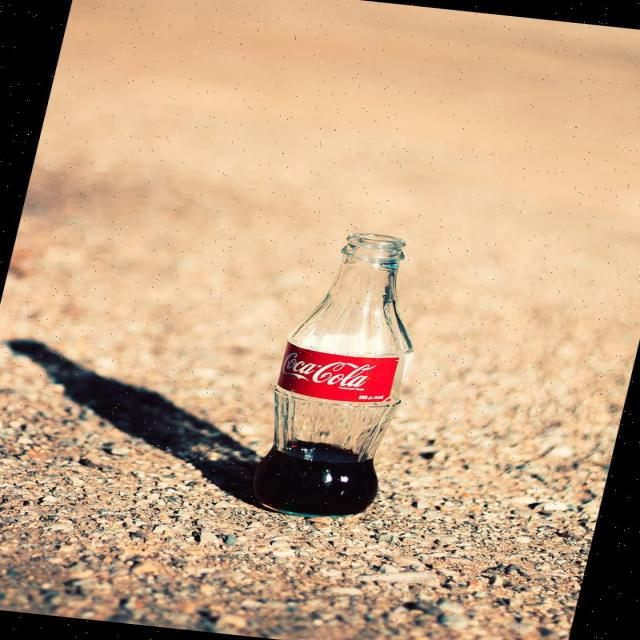coca-cola: (238, 223, 450, 521)
